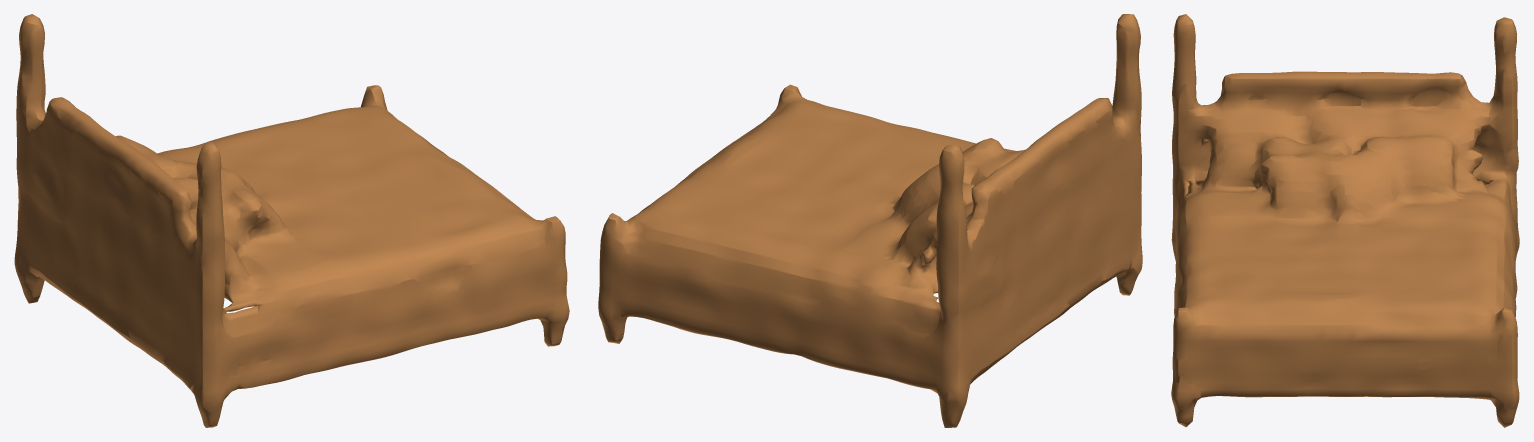
The model's file is bed_1_4.obj.
3 renders of one model, left to right at view 1: azimuth 30°, elevation 25°; view 2: azimuth 150°, elevation 25°; view 3: azimuth 270°, elevation 25°, orthographic. The views are drawn at different scales.
Size of the model in its own units: 0.7945 by 0.5956 by 0.7194.
